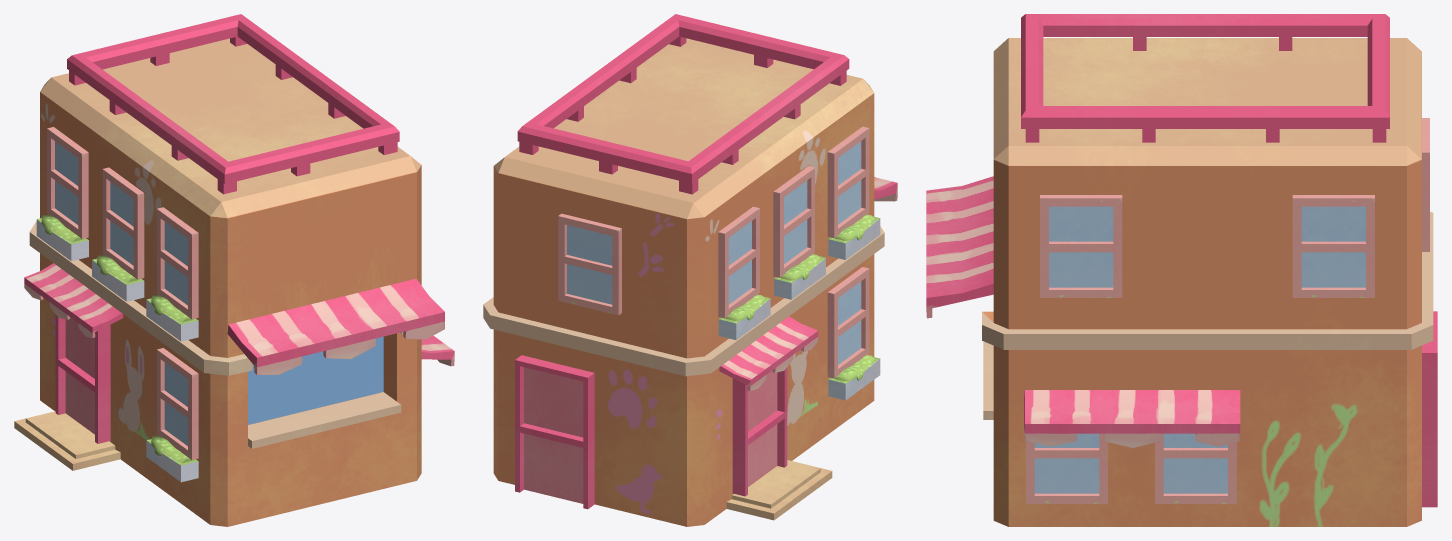
The model's file is Building2.fbx.
3 views of the same model, side by side, from view 1: azimuth 30°, elevation 25°; view 2: azimuth 150°, elevation 25°; view 3: azimuth 270°, elevation 25° (orthographic). The views are drawn at different scales.
Parts seen in each view (by area): view 1: Building2; view 2: Building2; view 3: Building2.
Boxes of the visible parts, x1,y1,x2,y2 form: Building2: (14,14,454,526); Building2: (483,14,897,526); Building2: (926,14,1437,526).
Bounding box in the file's own units: 44.56 × 49.31 × 56.39.
